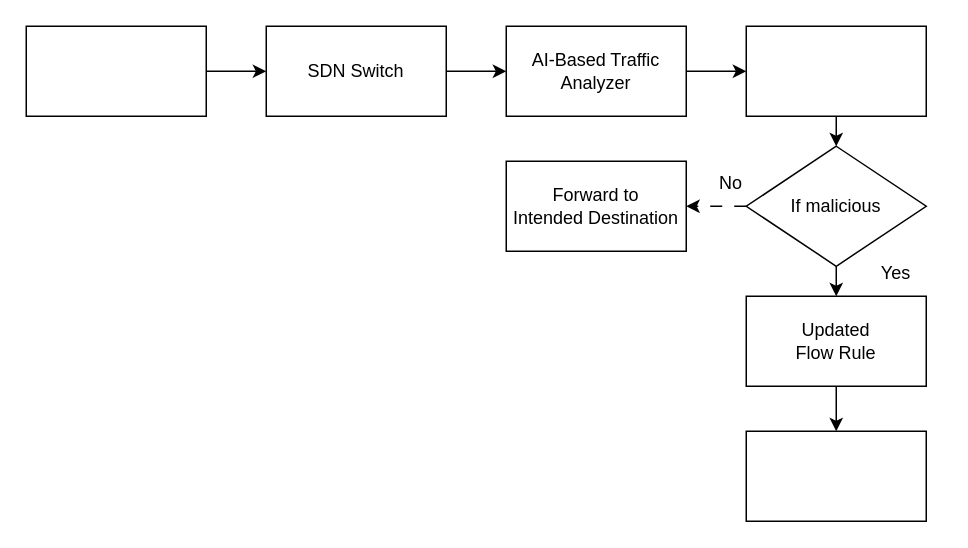
Image size: 968x548. Some labels were removed from this diagram. Each missing label, with the centre of its shape:
"Client" goes at point 115,70.
"Drop Packet / Honeypot / Block IP" goes at point 835,475.
"SDN Controller" goes at point 835,70.
